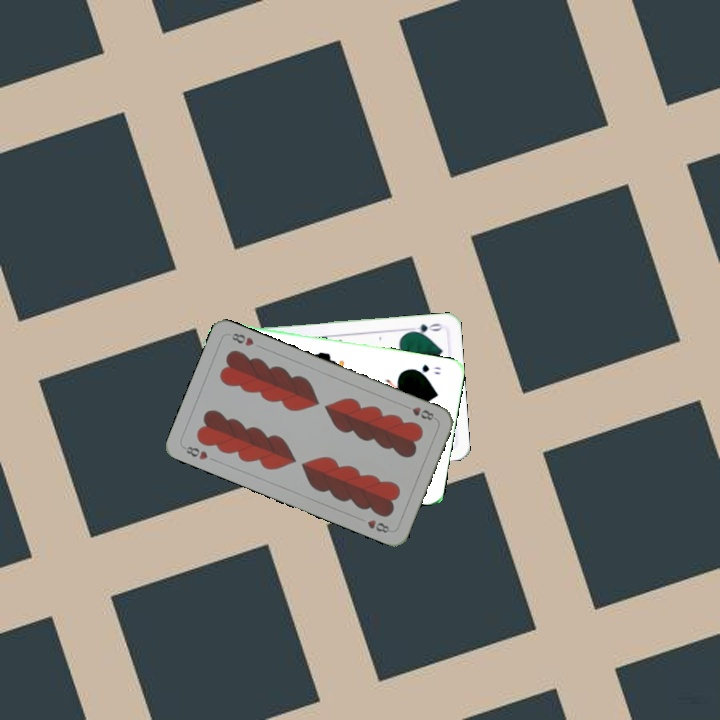GO: (404, 319, 445, 337), (407, 360, 443, 377)
H8: (179, 442, 210, 462), (408, 403, 436, 423)
